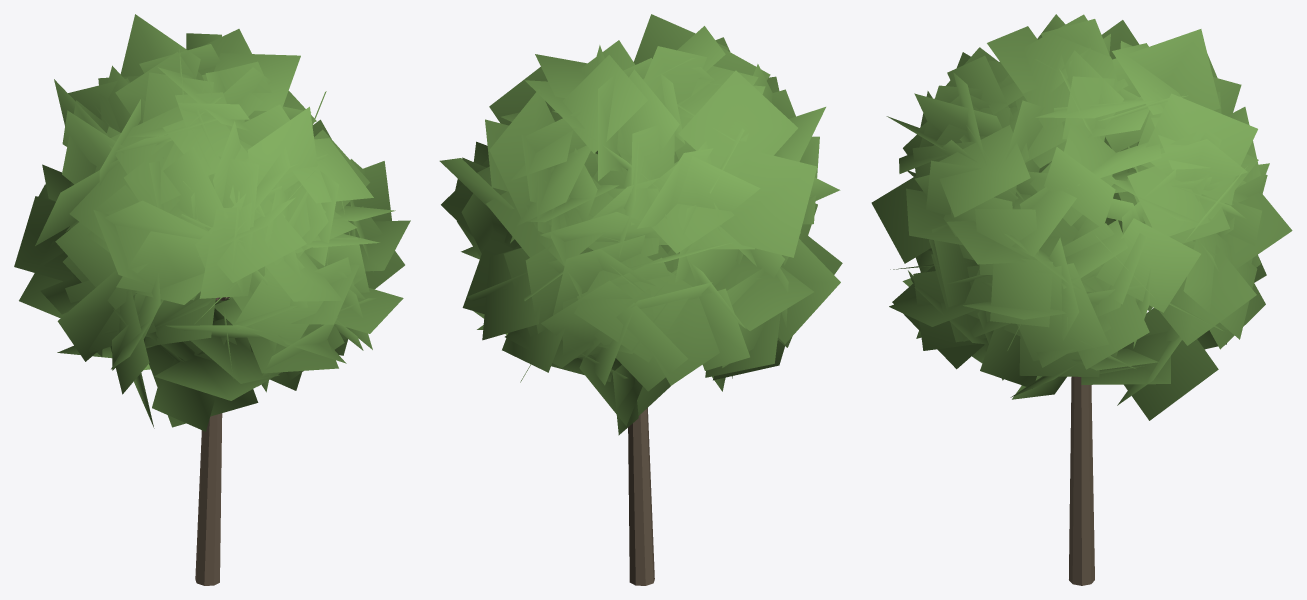
The model's file is tree_1.glb.
3 views of the same model, side by side, from view 1: azimuth 30°, elevation 25°; view 2: azimuth 150°, elevation 25°; view 3: azimuth 270°, elevation 25° (orthographic). The views are drawn at different scales.
Parts seen in each view (by area): view 1: Leaves_Crown, Bark_Trunk; view 2: Leaves_Crown, Bark_Trunk; view 3: Leaves_Crown, Bark_Trunk.
Part boxes in pixels (<box>): Leaves_Crown: <box>14,14,410,431</box>; Bark_Trunk: <box>195,297,229,585</box>; Leaves_Crown: <box>439,14,842,435</box>; Bark_Trunk: <box>628,408,654,585</box>; Leaves_Crown: <box>871,14,1292,420</box>; Bark_Trunk: <box>1069,376,1094,585</box>.
Size of the model in its own units: 10.98 by 15.97 by 11.07.
